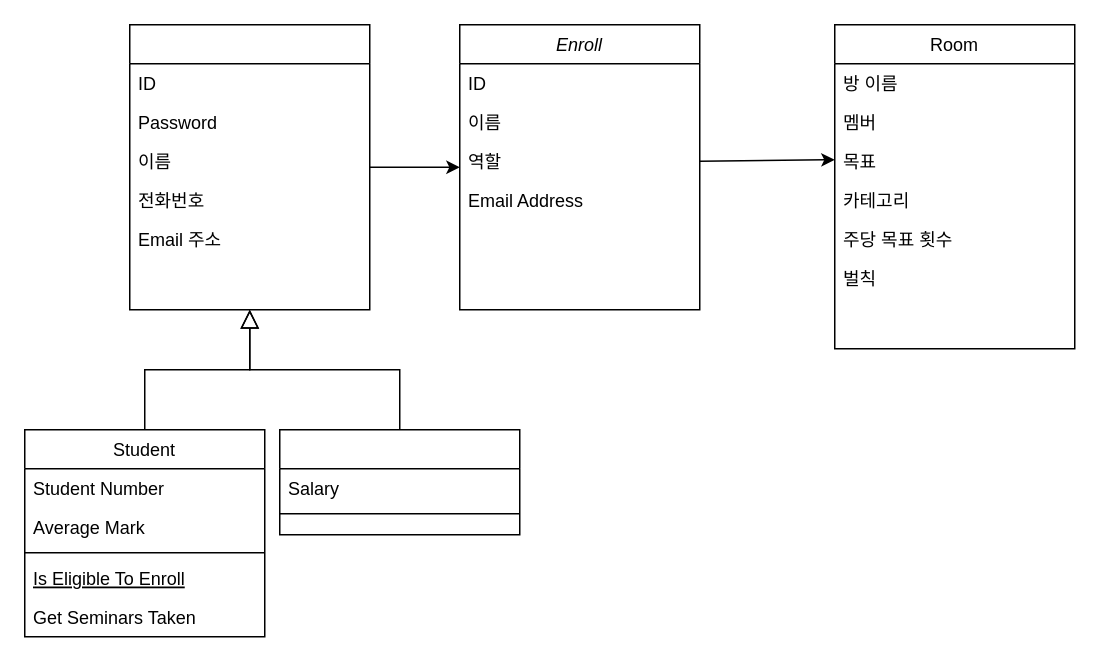
Image size: 1100x662. Some labels were removed from this diagram. Each missing label, with the box of its shape:
Member: (128, 23, 370, 310)
Professor: (278, 428, 520, 535)
